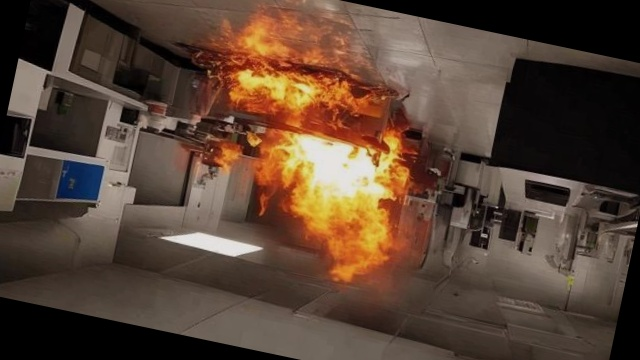fire: (155, 25, 444, 303)
